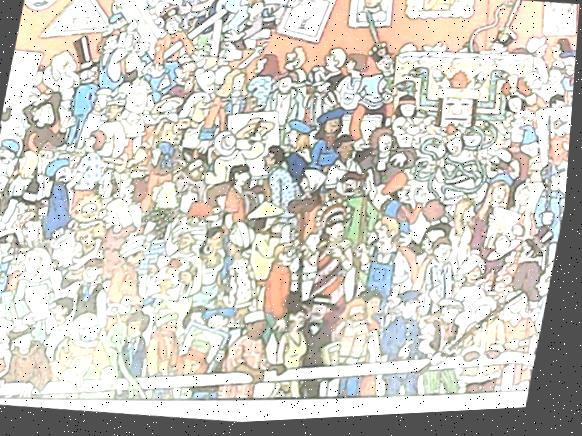waldo: (15, 213, 52, 250)
